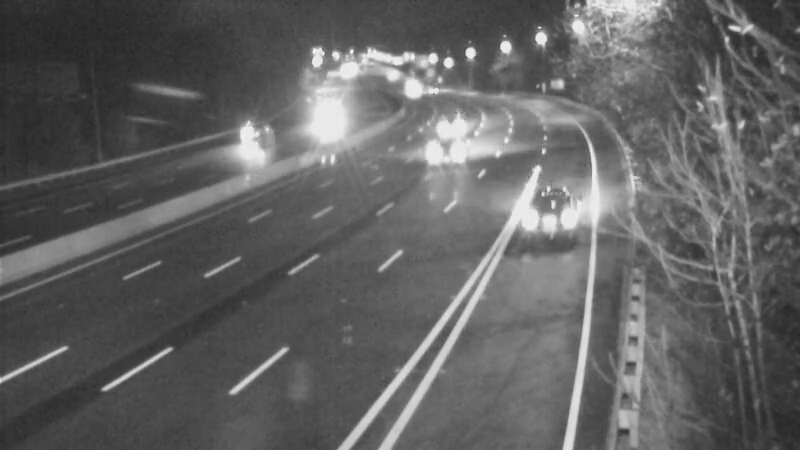vehicle: (408, 113, 488, 193), (510, 174, 590, 254), (369, 50, 419, 100), (384, 59, 434, 109), (401, 62, 451, 112), (389, 66, 439, 116), (423, 99, 473, 149), (220, 111, 270, 161), (304, 95, 354, 145)
